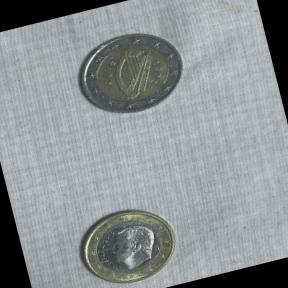1 Euro-B: (69, 196, 186, 288)
2 Euro-B: (64, 17, 198, 130)
